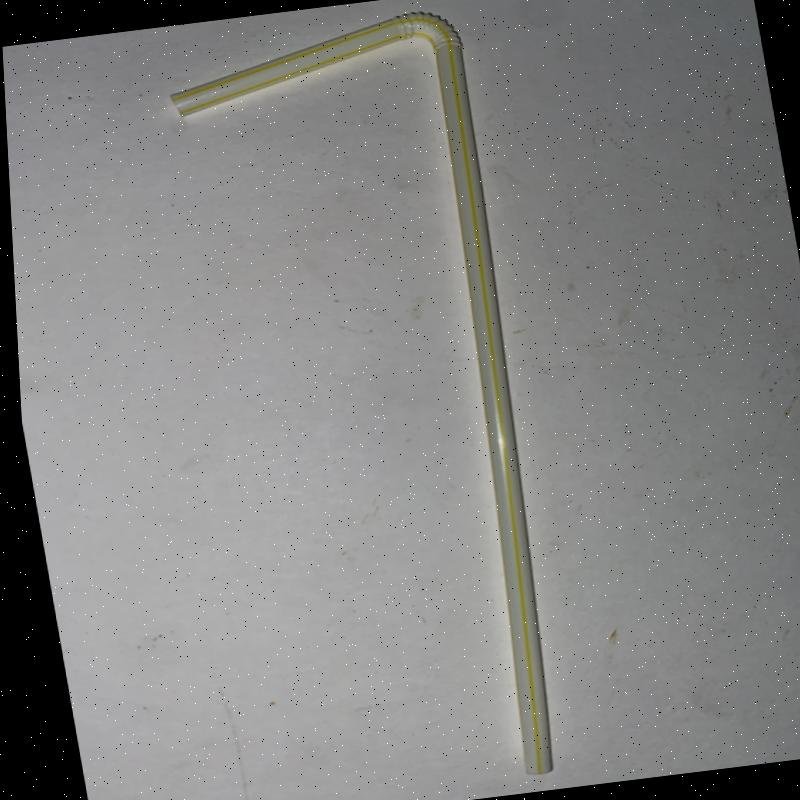plastic straw: (171, 13, 553, 774)
